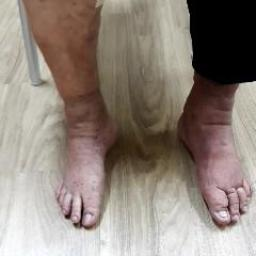Dorsal View -Both Feet-: (24, 60, 255, 243)
